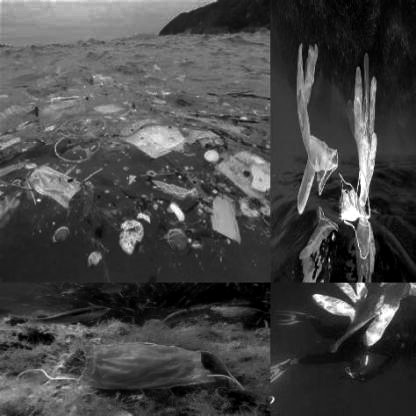Mask: (13, 339, 249, 391), (25, 160, 81, 209), (340, 169, 370, 231)
glove: (311, 283, 415, 362), (295, 39, 339, 217), (348, 51, 378, 189)
